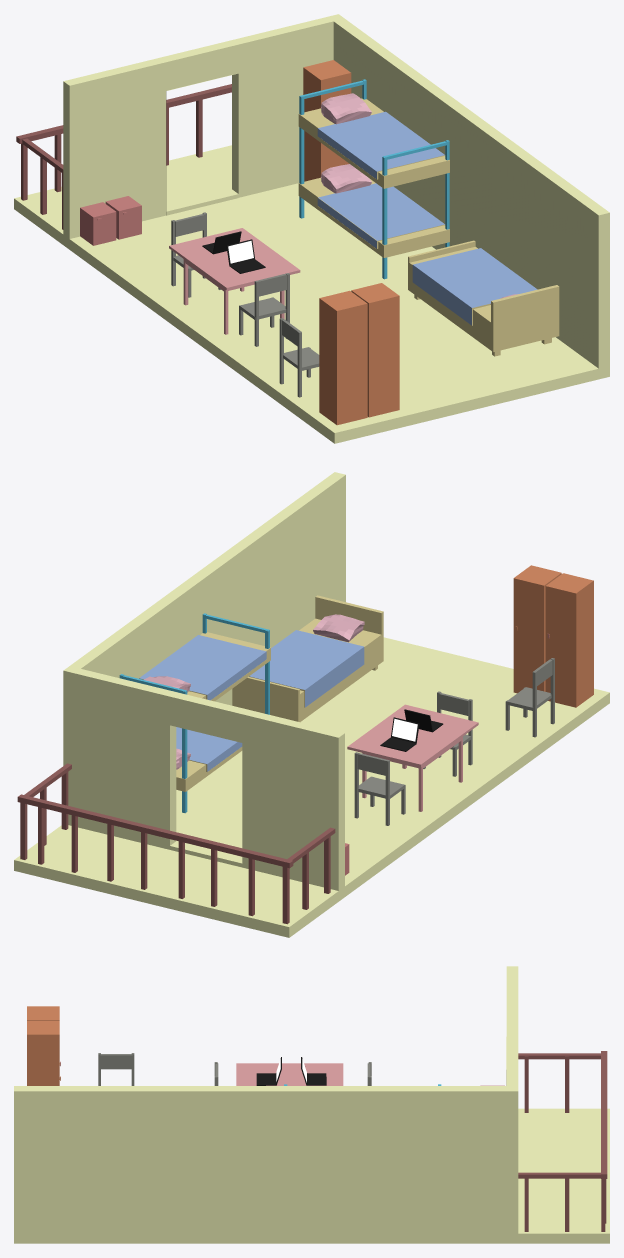
3 renders of one model, top to bottom at view 1: azimuth 30°, elevation 25°; view 2: azimuth 150°, elevation 25°; view 3: azimuth 270°, elevation 25°, orthographic. The views are drawn at different scales.
Visible parts, largest first — view 1: Cube, Cube.029, Cube.047, Cube.041, Cube.005, Cube.007, Cube.036, Cube.014, Cube.003, Cube.045, Cube.064, Cube.070 (+5 smaller); view 2: Cube, Cube.029, Cube.014, Cube.005, Cube.047, Cube.036, Cube.007, Cube.041, Cube.058, Cube.070, Cube.045, Cube.064 (+1 smaller); view 3: Cube, Cube.014, Cube.007, Cube.036, Cube.070, Cube.005.
Boxes of the visible parts, bbox=[...] form: Cube: bbox=[14, 14, 609, 443]; Cube.029: bbox=[408, 240, 559, 356]; Cube.047: bbox=[298, 98, 449, 188]; Cube.041: bbox=[298, 177, 449, 257]; Cube.005: bbox=[319, 290, 367, 425]; Cube.007: bbox=[351, 283, 399, 417]; Cube.036: bbox=[169, 228, 300, 334]; Cube.014: bbox=[16, 84, 231, 229]; Cube.003: bbox=[303, 60, 351, 181]; Cube.045: bbox=[299, 79, 449, 279]; Cube.064: bbox=[239, 273, 289, 346]; Cube.070: bbox=[279, 318, 319, 397]; Cube: bbox=[14, 472, 609, 937]; Cube.029: bbox=[232, 595, 383, 722]; Cube.014: bbox=[17, 763, 335, 924]; Cube.005: bbox=[545, 573, 593, 707]; Cube.047: bbox=[139, 632, 270, 701]; Cube.036: bbox=[347, 704, 478, 811]; Cube.007: bbox=[513, 565, 561, 693]; Cube.041: bbox=[176, 727, 242, 791]; Cube.058: bbox=[354, 752, 405, 825]; Cube.070: bbox=[505, 658, 554, 737]; Cube.045: bbox=[119, 613, 269, 813]; Cube.064: bbox=[423, 691, 472, 776]; Cube: bbox=[14, 966, 609, 1243]; Cube.014: bbox=[518, 1051, 607, 1231]; Cube.007: bbox=[27, 1021, 59, 1085]; Cube.036: bbox=[236, 1063, 343, 1085]; Cube.070: bbox=[98, 1053, 134, 1085]; Cube.005: bbox=[27, 1006, 59, 1020].
Bounding box in the file's own units: 3.93 × 2.29 × 7.92.
